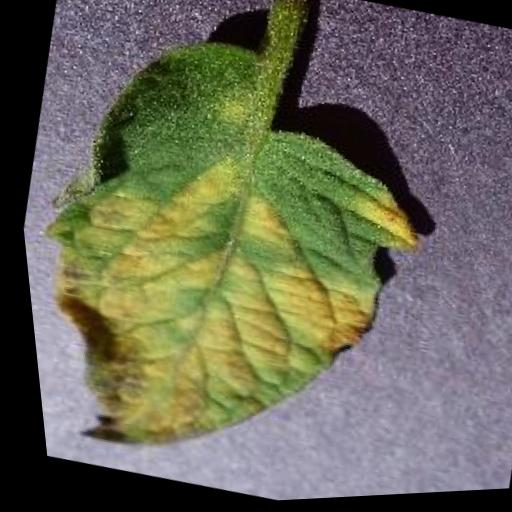Leaf Mold: (1, 0, 469, 511)
